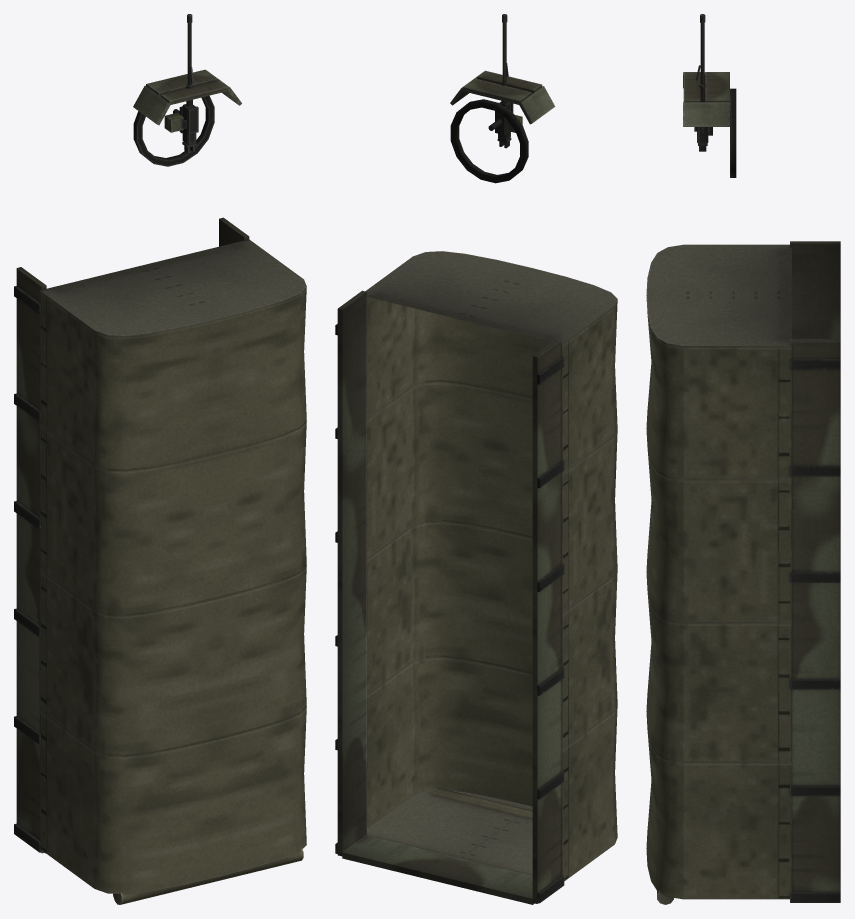
The model's file is hemtt_troop_module_pbr.glb.
3 renders of one model, left to right at view 1: azimuth 30°, elevation 25°; view 2: azimuth 150°, elevation 25°; view 3: azimuth 270°, elevation 25°, orthographic. The views are drawn at different scales.
Parts seen in each view (by area): view 1: hemtt_troop_module_pbr; view 2: hemtt_troop_module_pbr; view 3: hemtt_troop_module_pbr.
Part boxes in pixels (box(x1,y1,x2,y2)): hemtt_troop_module_pbr: box(14, 14, 306, 904); hemtt_troop_module_pbr: box(335, 14, 617, 904); hemtt_troop_module_pbr: box(646, 14, 840, 904).
Size of the model in its own units: 2.71 by 10.43 by 2.17.
Materials: 1 (1 with a texture image).
